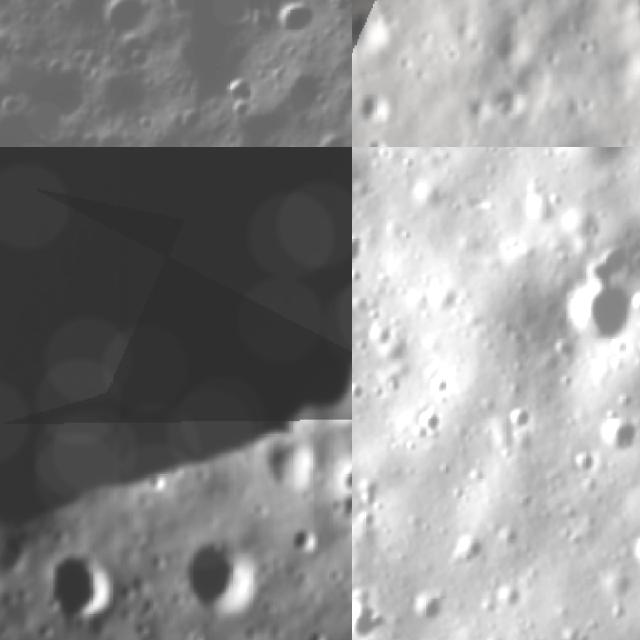crater: (0, 147, 352, 518), (174, 534, 264, 616), (556, 287, 640, 352), (43, 552, 110, 624), (80, 0, 159, 54), (206, 68, 264, 126), (262, 0, 329, 50), (352, 0, 406, 55), (574, 242, 636, 288), (444, 529, 489, 573), (155, 0, 220, 28), (596, 416, 640, 456), (590, 572, 640, 606), (405, 582, 442, 627), (352, 594, 385, 640), (494, 82, 532, 119), (410, 406, 451, 440), (358, 318, 395, 354), (424, 282, 464, 315), (565, 448, 600, 481), (505, 402, 537, 435), (285, 524, 322, 550), (425, 370, 456, 401), (332, 492, 352, 529), (352, 229, 368, 267), (338, 457, 352, 498), (352, 376, 372, 403), (302, 621, 330, 640)
